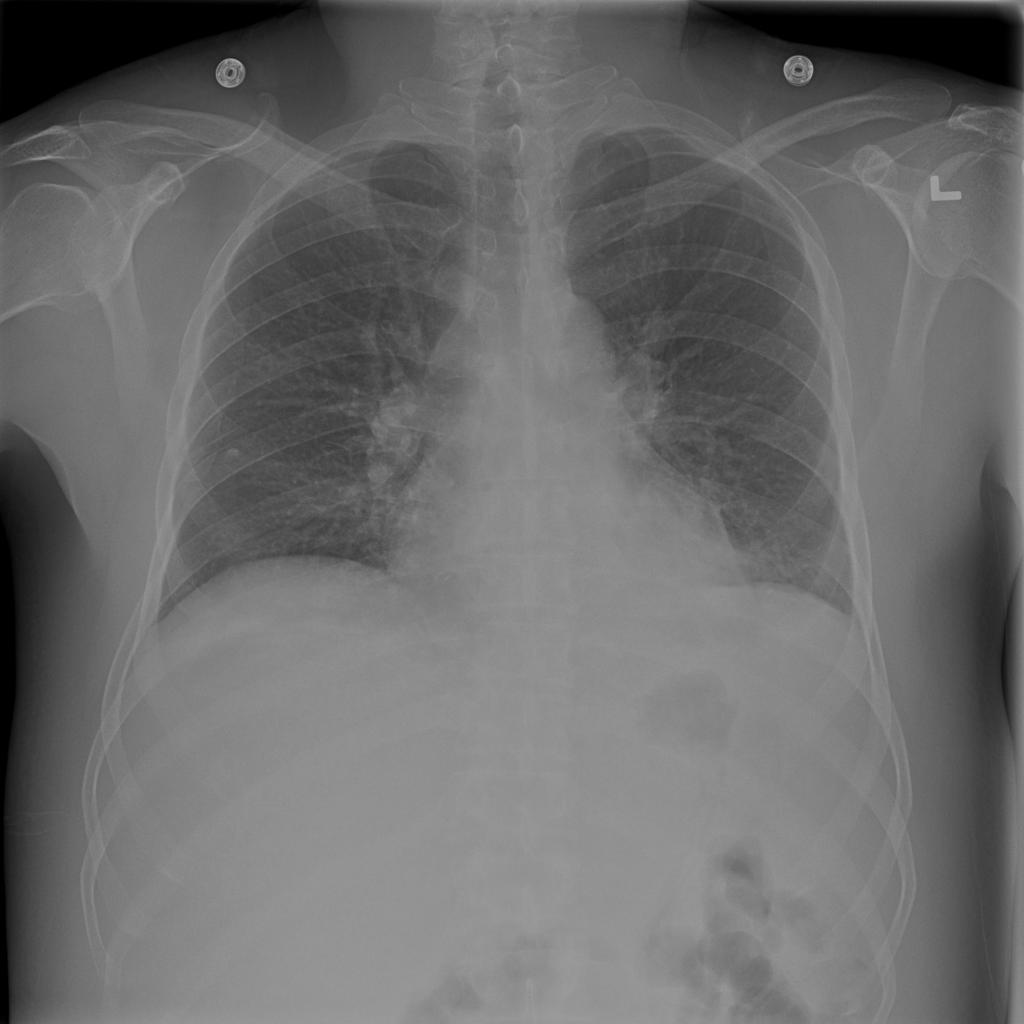nodule: (215, 442, 248, 469)
